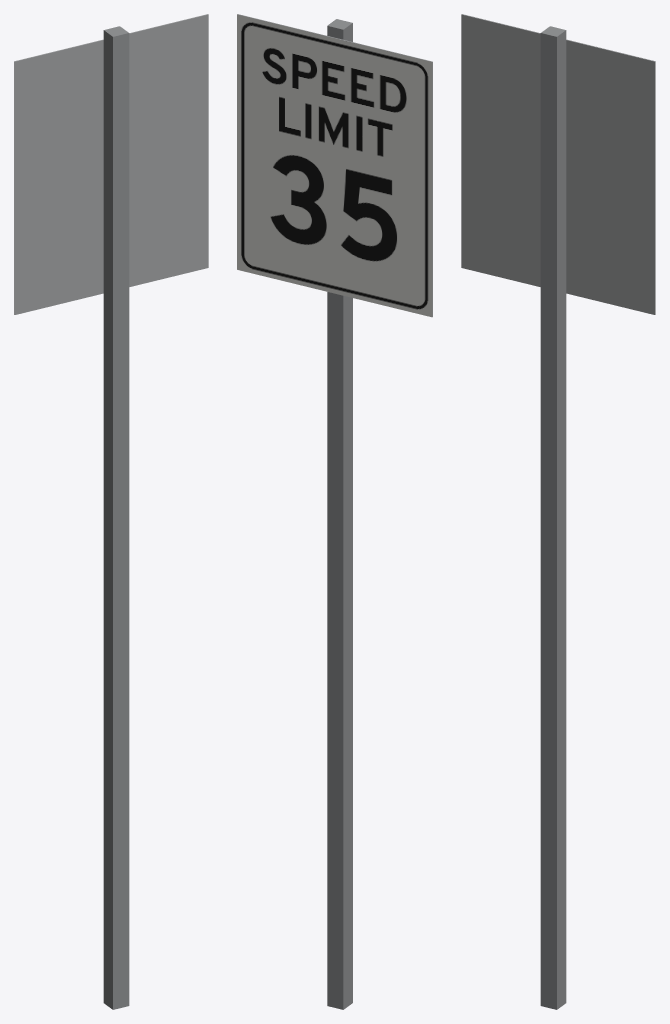
File: sign_r2-1_speed_35.glb
3 views of the same model, side by side, from view 1: azimuth 30°, elevation 25°; view 2: azimuth 150°, elevation 25°; view 3: azimuth 330°, elevation 25° (orthographic).
Parts seen in each view (by area): view 1: sign_r2-1_speed_35; view 2: sign_r2-1_speed_35; view 3: sign_r2-1_speed_35.
Part boxes in pixels (x1,y1,x2,y2): sign_r2-1_speed_35: (14, 14, 208, 1009); sign_r2-1_speed_35: (237, 14, 432, 1009); sign_r2-1_speed_35: (461, 14, 655, 1009).
Bounding box in the file's own units: 0.6096 × 2.93 × 0.0543.
3 materials, 1 textured.
